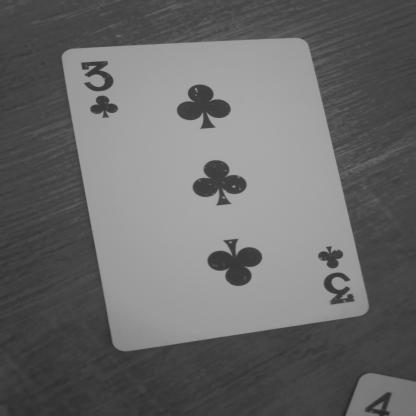3C: (310, 237, 366, 317), (80, 55, 126, 128)
